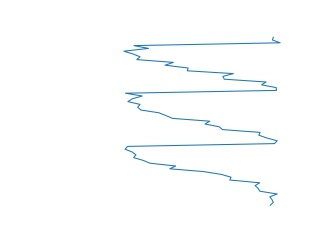distributaryMouthBar: (121, 32, 283, 209)
